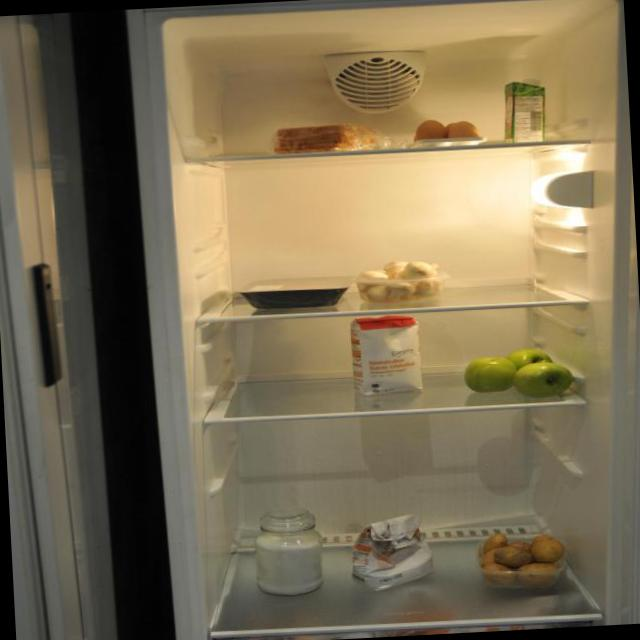Champiñones: (356, 258, 448, 308)
Huevos: (408, 116, 488, 151)
Manzana: (458, 346, 578, 402)
Patata: (476, 526, 570, 592)
